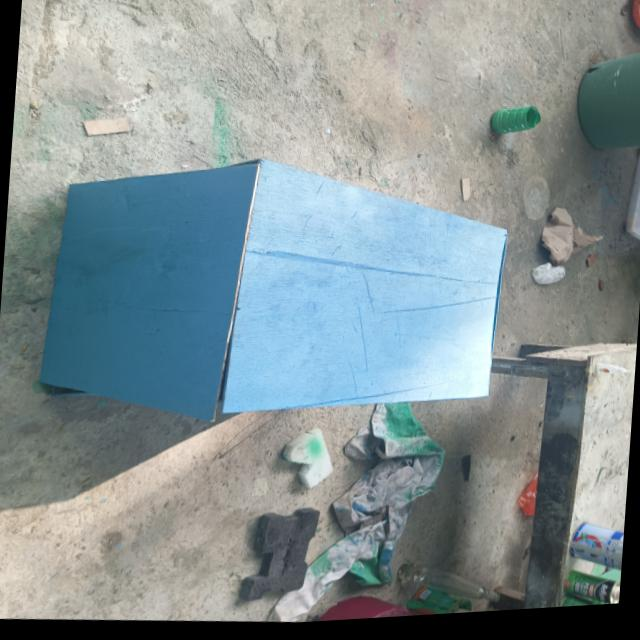blue_box: (22, 128, 524, 456)
